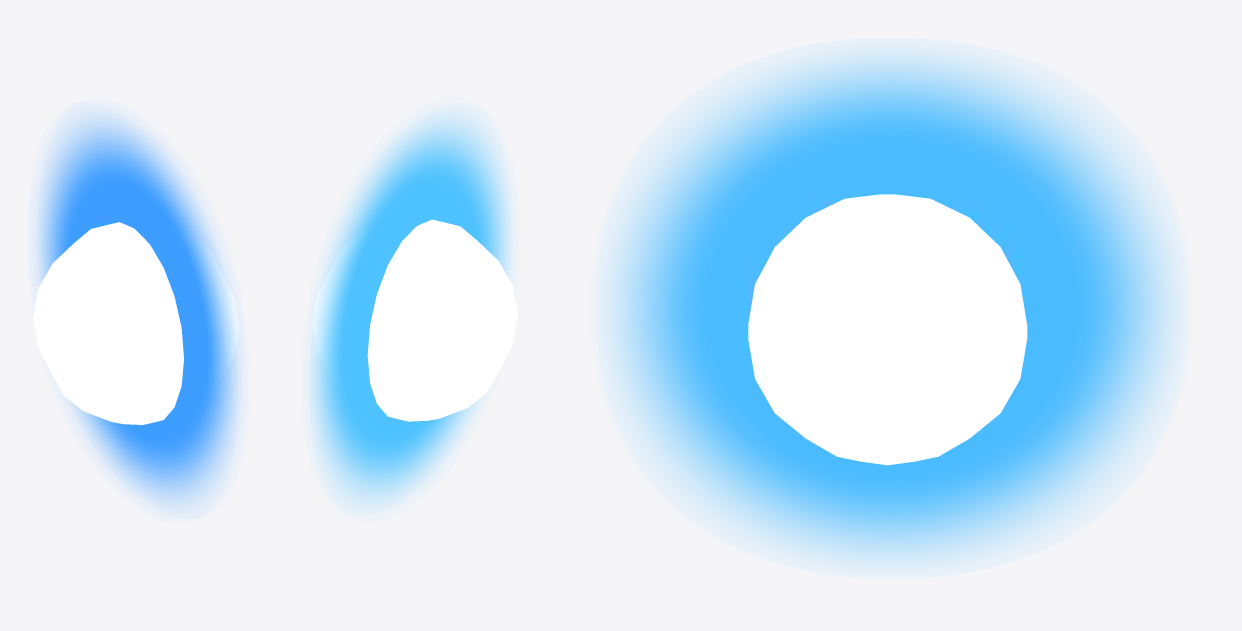
The picture shows the model from 3 angles, left to right: view 1: azimuth 30°, elevation 25°; view 2: azimuth 150°, elevation 25°; view 3: azimuth 270°, elevation 25°; orthographic projection. The views are drawn at different scales.
Visible parts, largest first — view 1: Plane.001; view 2: Plane.001; view 3: Plane.001.
Boxes of the visible parts, box(x1,y1,x2,y2) form: Plane.001: box(33, 114, 239, 507); Plane.001: box(310, 113, 517, 505); Plane.001: box(609, 52, 1174, 564).
Bounding box in the file's own units: 0.103 × 0.2353 × 0.2348.
Materials: 2 (1 with a texture image).
